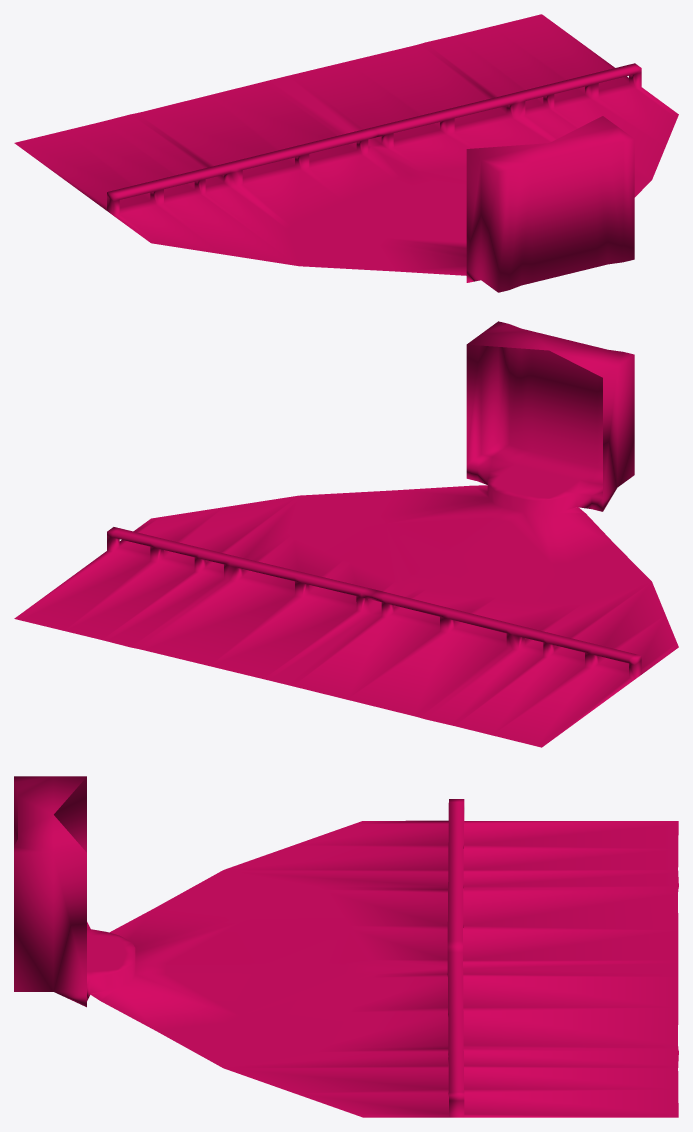
File: floor.fbx
3 renders of one model, top to bottom at view 1: azimuth 30°, elevation 25°; view 2: azimuth 150°, elevation 25°; view 3: azimuth 270°, elevation 25°, orthographic. The views are drawn at different scales.
Parts seen in each view (by area): view 1: 円柱.004; view 2: 円柱.004; view 3: 円柱.004.
Boxes of the visible parts, x1=… form: 円柱.004: x1=14, y1=14, x2=678, y2=292; 円柱.004: x1=14, y1=321, x2=678, y2=747; 円柱.004: x1=14, y1=776, x2=678, y2=1117.
Size of the model in its own units: 4798 by 1164 by 4544.
